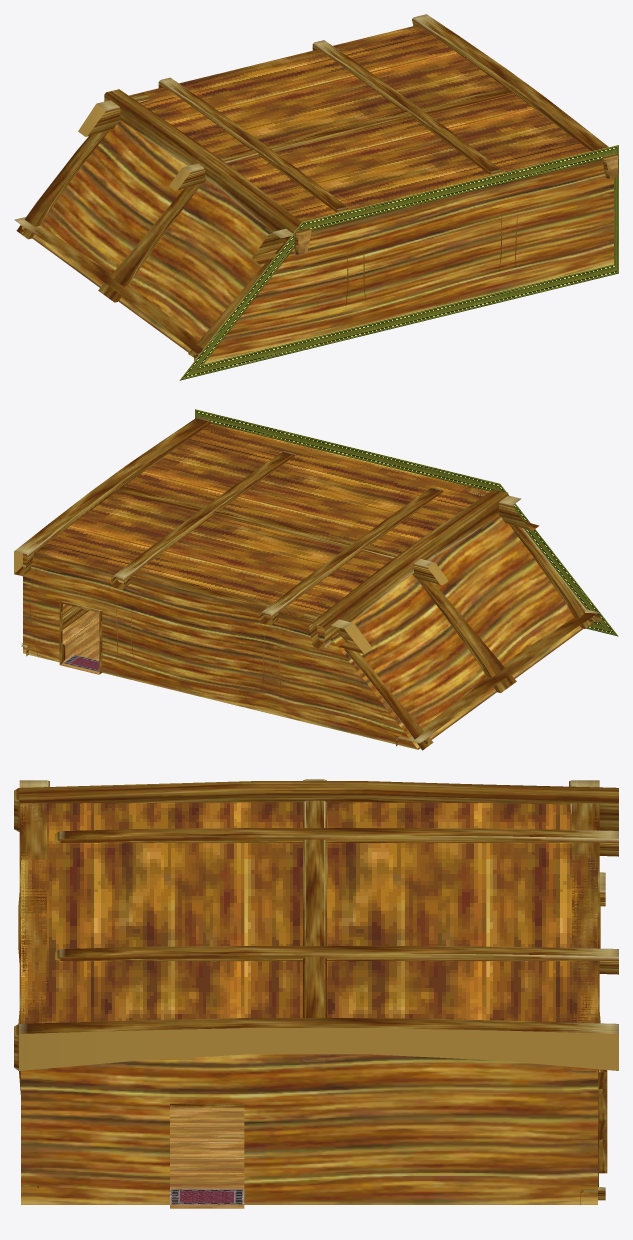
File: room_48.glb
3 renders of one model, top to bottom at view 1: azimuth 30°, elevation 25°; view 2: azimuth 150°, elevation 25°; view 3: azimuth 270°, elevation 25°, orthographic. The views are drawn at different scales.
Visible parts, largest first — view 1: room_48; view 2: room_48; view 3: room_48.
Part boxes in pixels (<box>): room_48: <box>14,14,618,380</box>; room_48: <box>14,409,618,750</box>; room_48: <box>14,779,618,1208</box>.
Bounding box in the file's own units: 2146 × 600 × 1625.
Materials: 15 (15 with a texture image).
